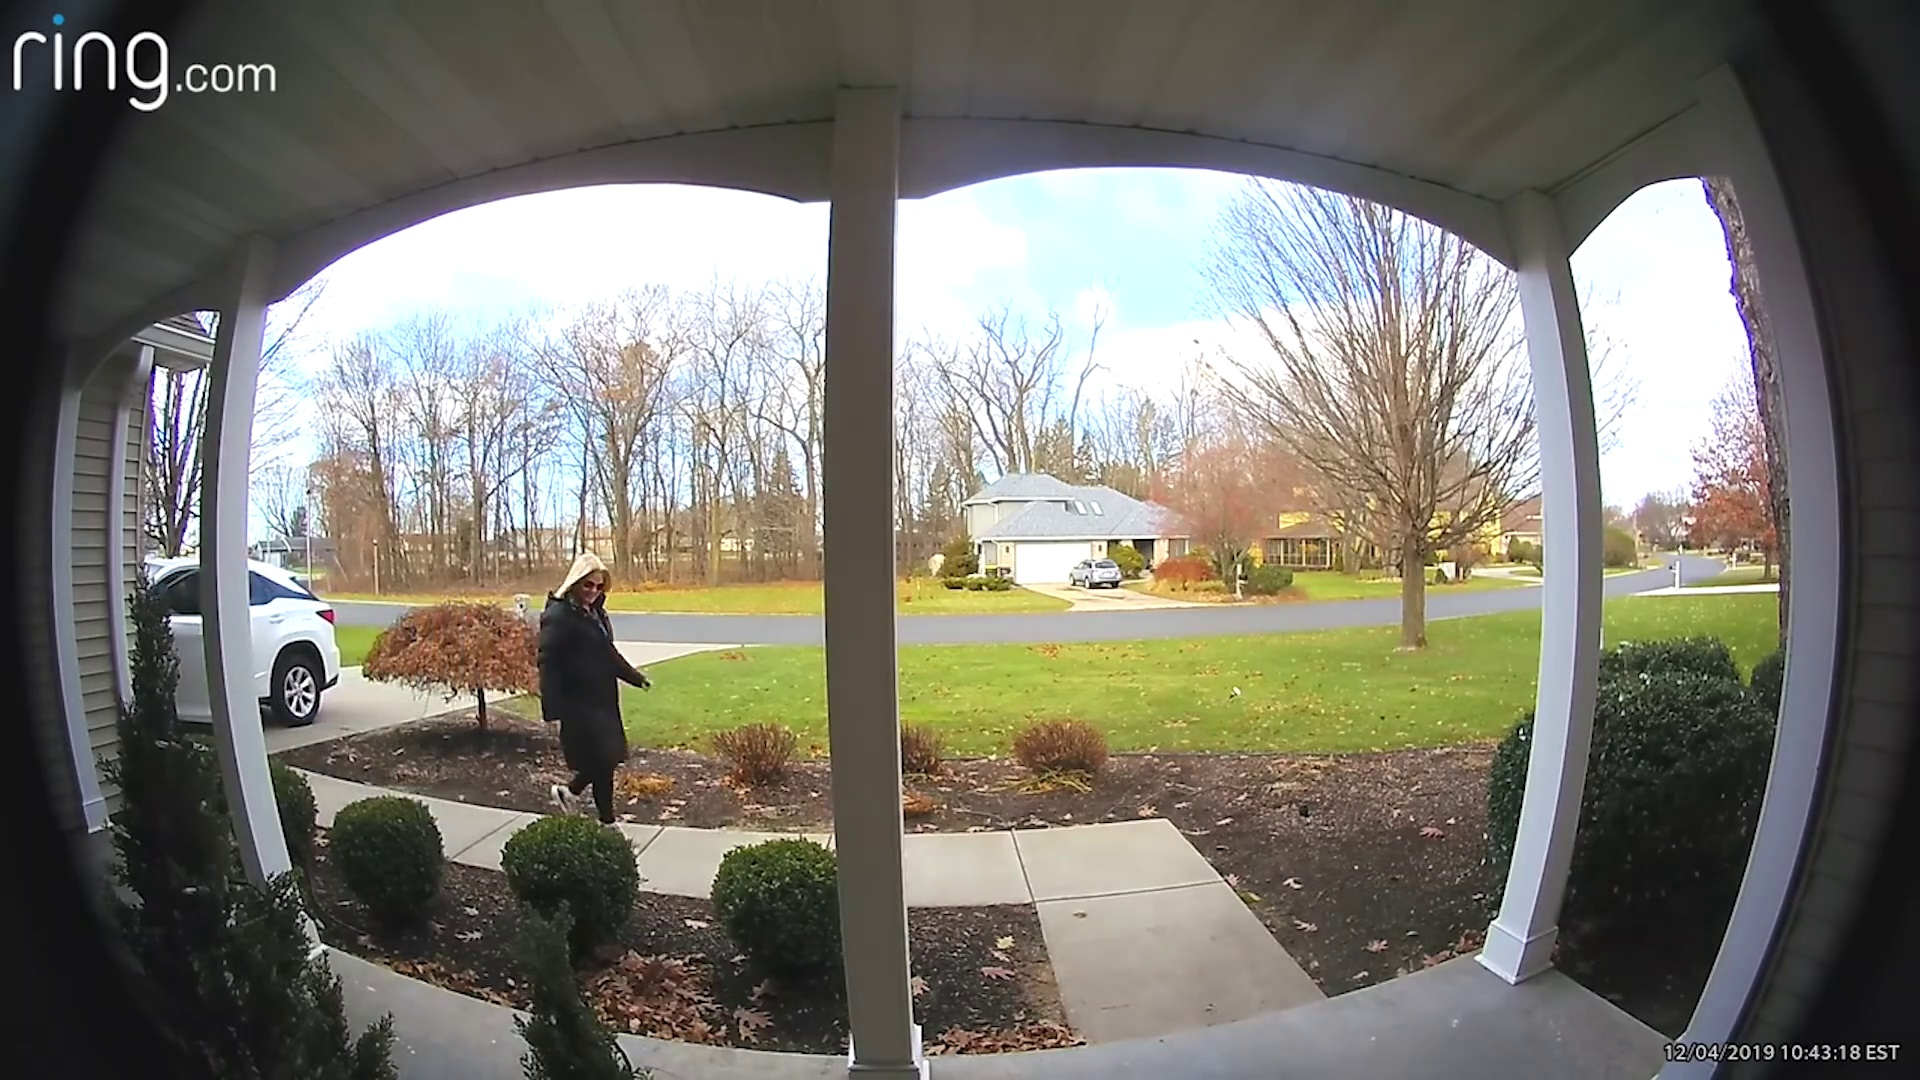face: (577, 570, 602, 605)
